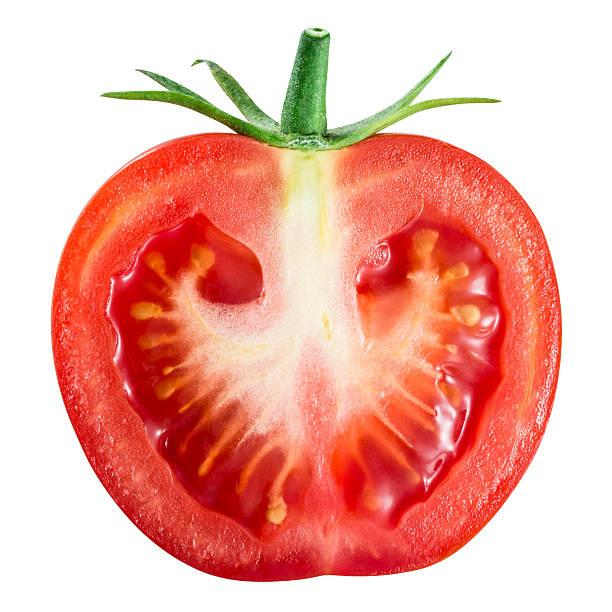Tomato: (42, 19, 567, 576)
